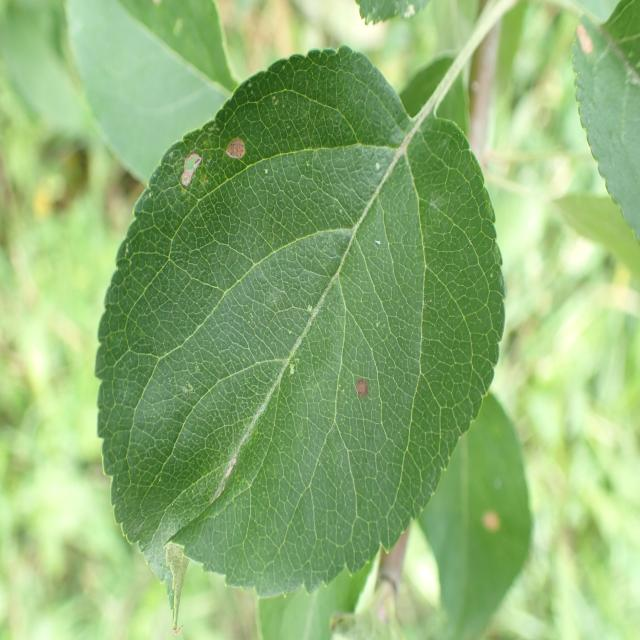Black Rot: (170, 133, 228, 203), (220, 136, 264, 191), (338, 377, 376, 410)
